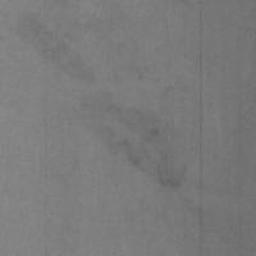Water spot: (17, 12, 189, 192)
